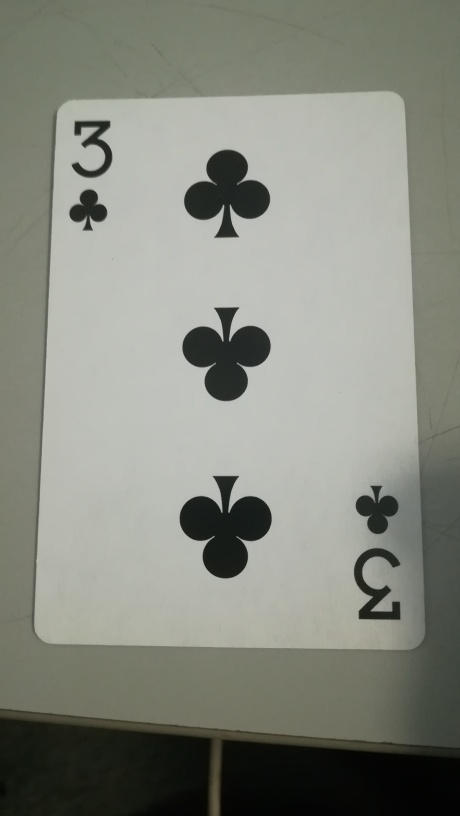mh 3: (42, 92, 428, 659)
